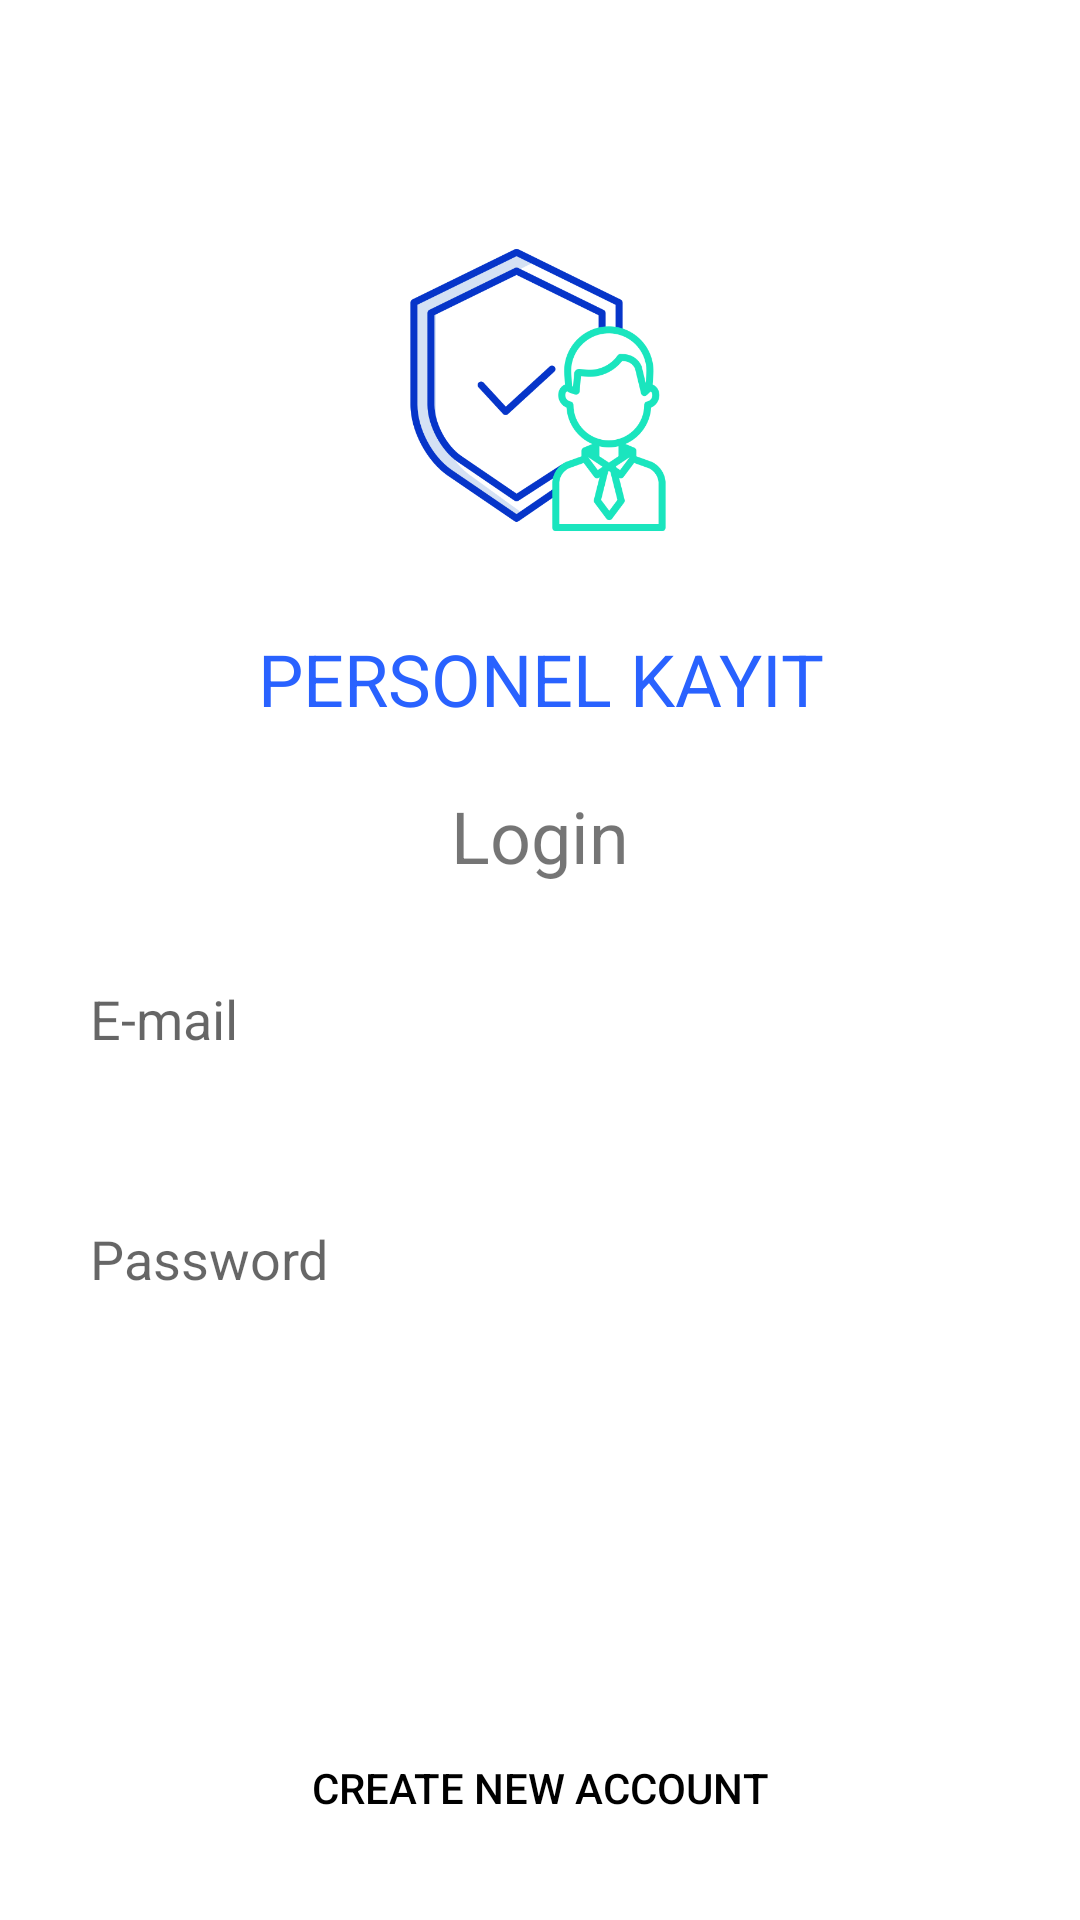

Icons on this 1080×1920 Android screen, each with its box as [x1,y1,x2,y2]:
employee: [410,249,666,531]
